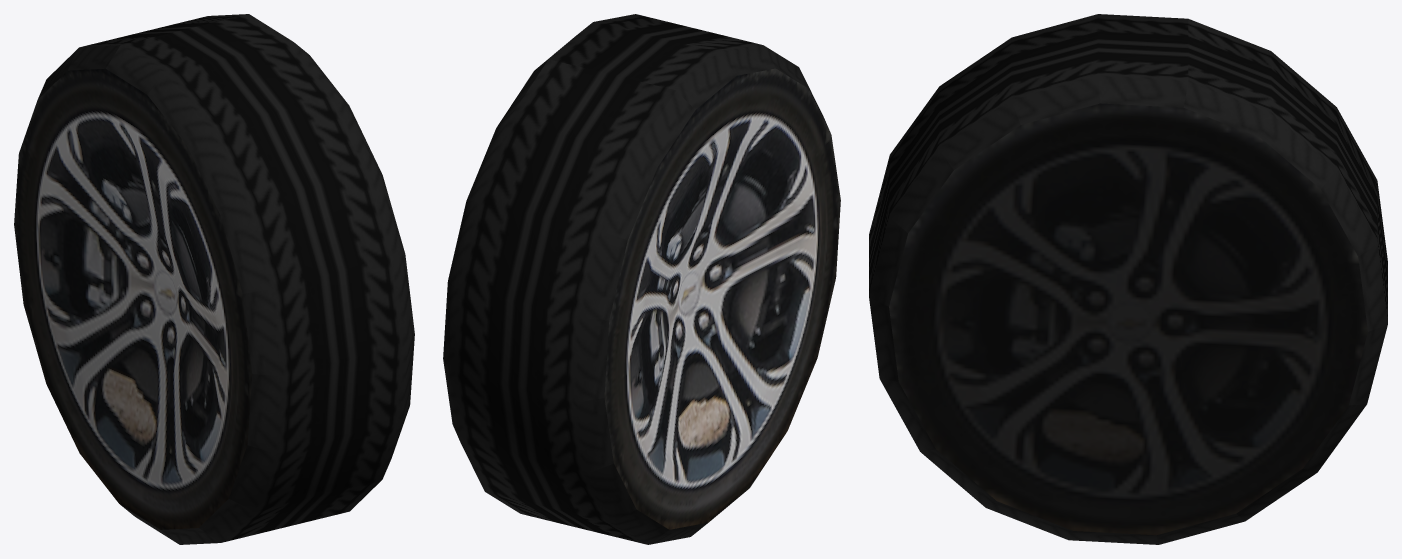
The model's file is wheel.dae.
3 views of the same model, side by side, from view 1: azimuth 30°, elevation 25°; view 2: azimuth 150°, elevation 25°; view 3: azimuth 270°, elevation 25° (orthographic).
Parts seen in each view (by area): view 1: Wheel_03; view 2: Wheel_03; view 3: Wheel_03.
Boxes of the visible parts, bbox=[...] form: Wheel_03: bbox=[14, 14, 414, 544]; Wheel_03: bbox=[443, 14, 840, 544]; Wheel_03: bbox=[869, 14, 1387, 544].
Size of the model in its own units: 238 by 650 by 654.
1 material, 1 textured.
